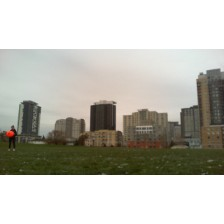buoy: (6, 131, 14, 137)
